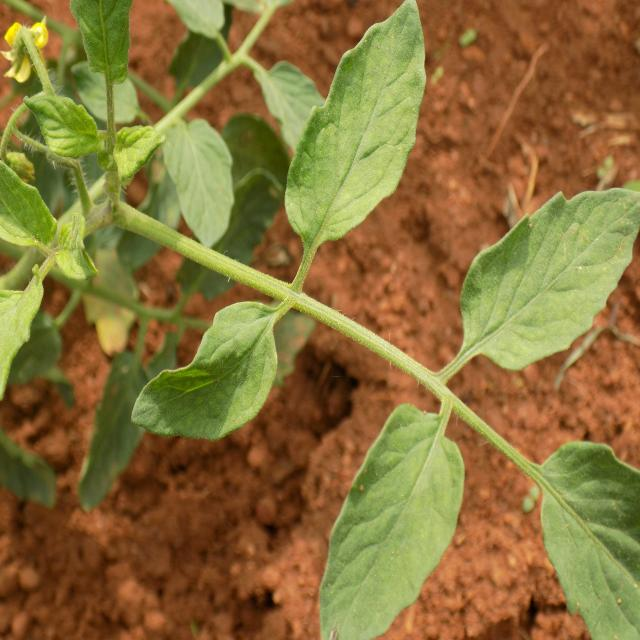tomato_healthy: (278, 0, 424, 239), (316, 406, 465, 640), (461, 181, 640, 373), (132, 293, 284, 437), (164, 118, 237, 249)
